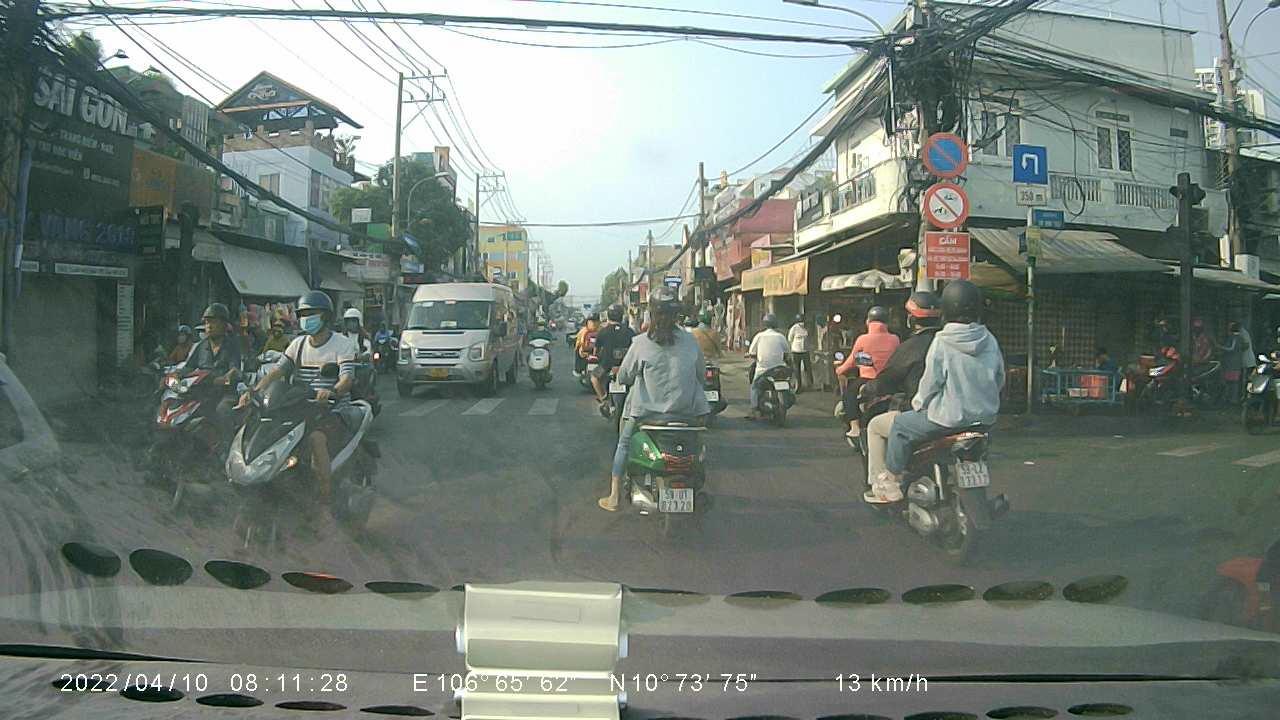Bien khac: (920, 181, 972, 230), (1010, 136, 1049, 185)
Cam do xe: (918, 127, 973, 180)
